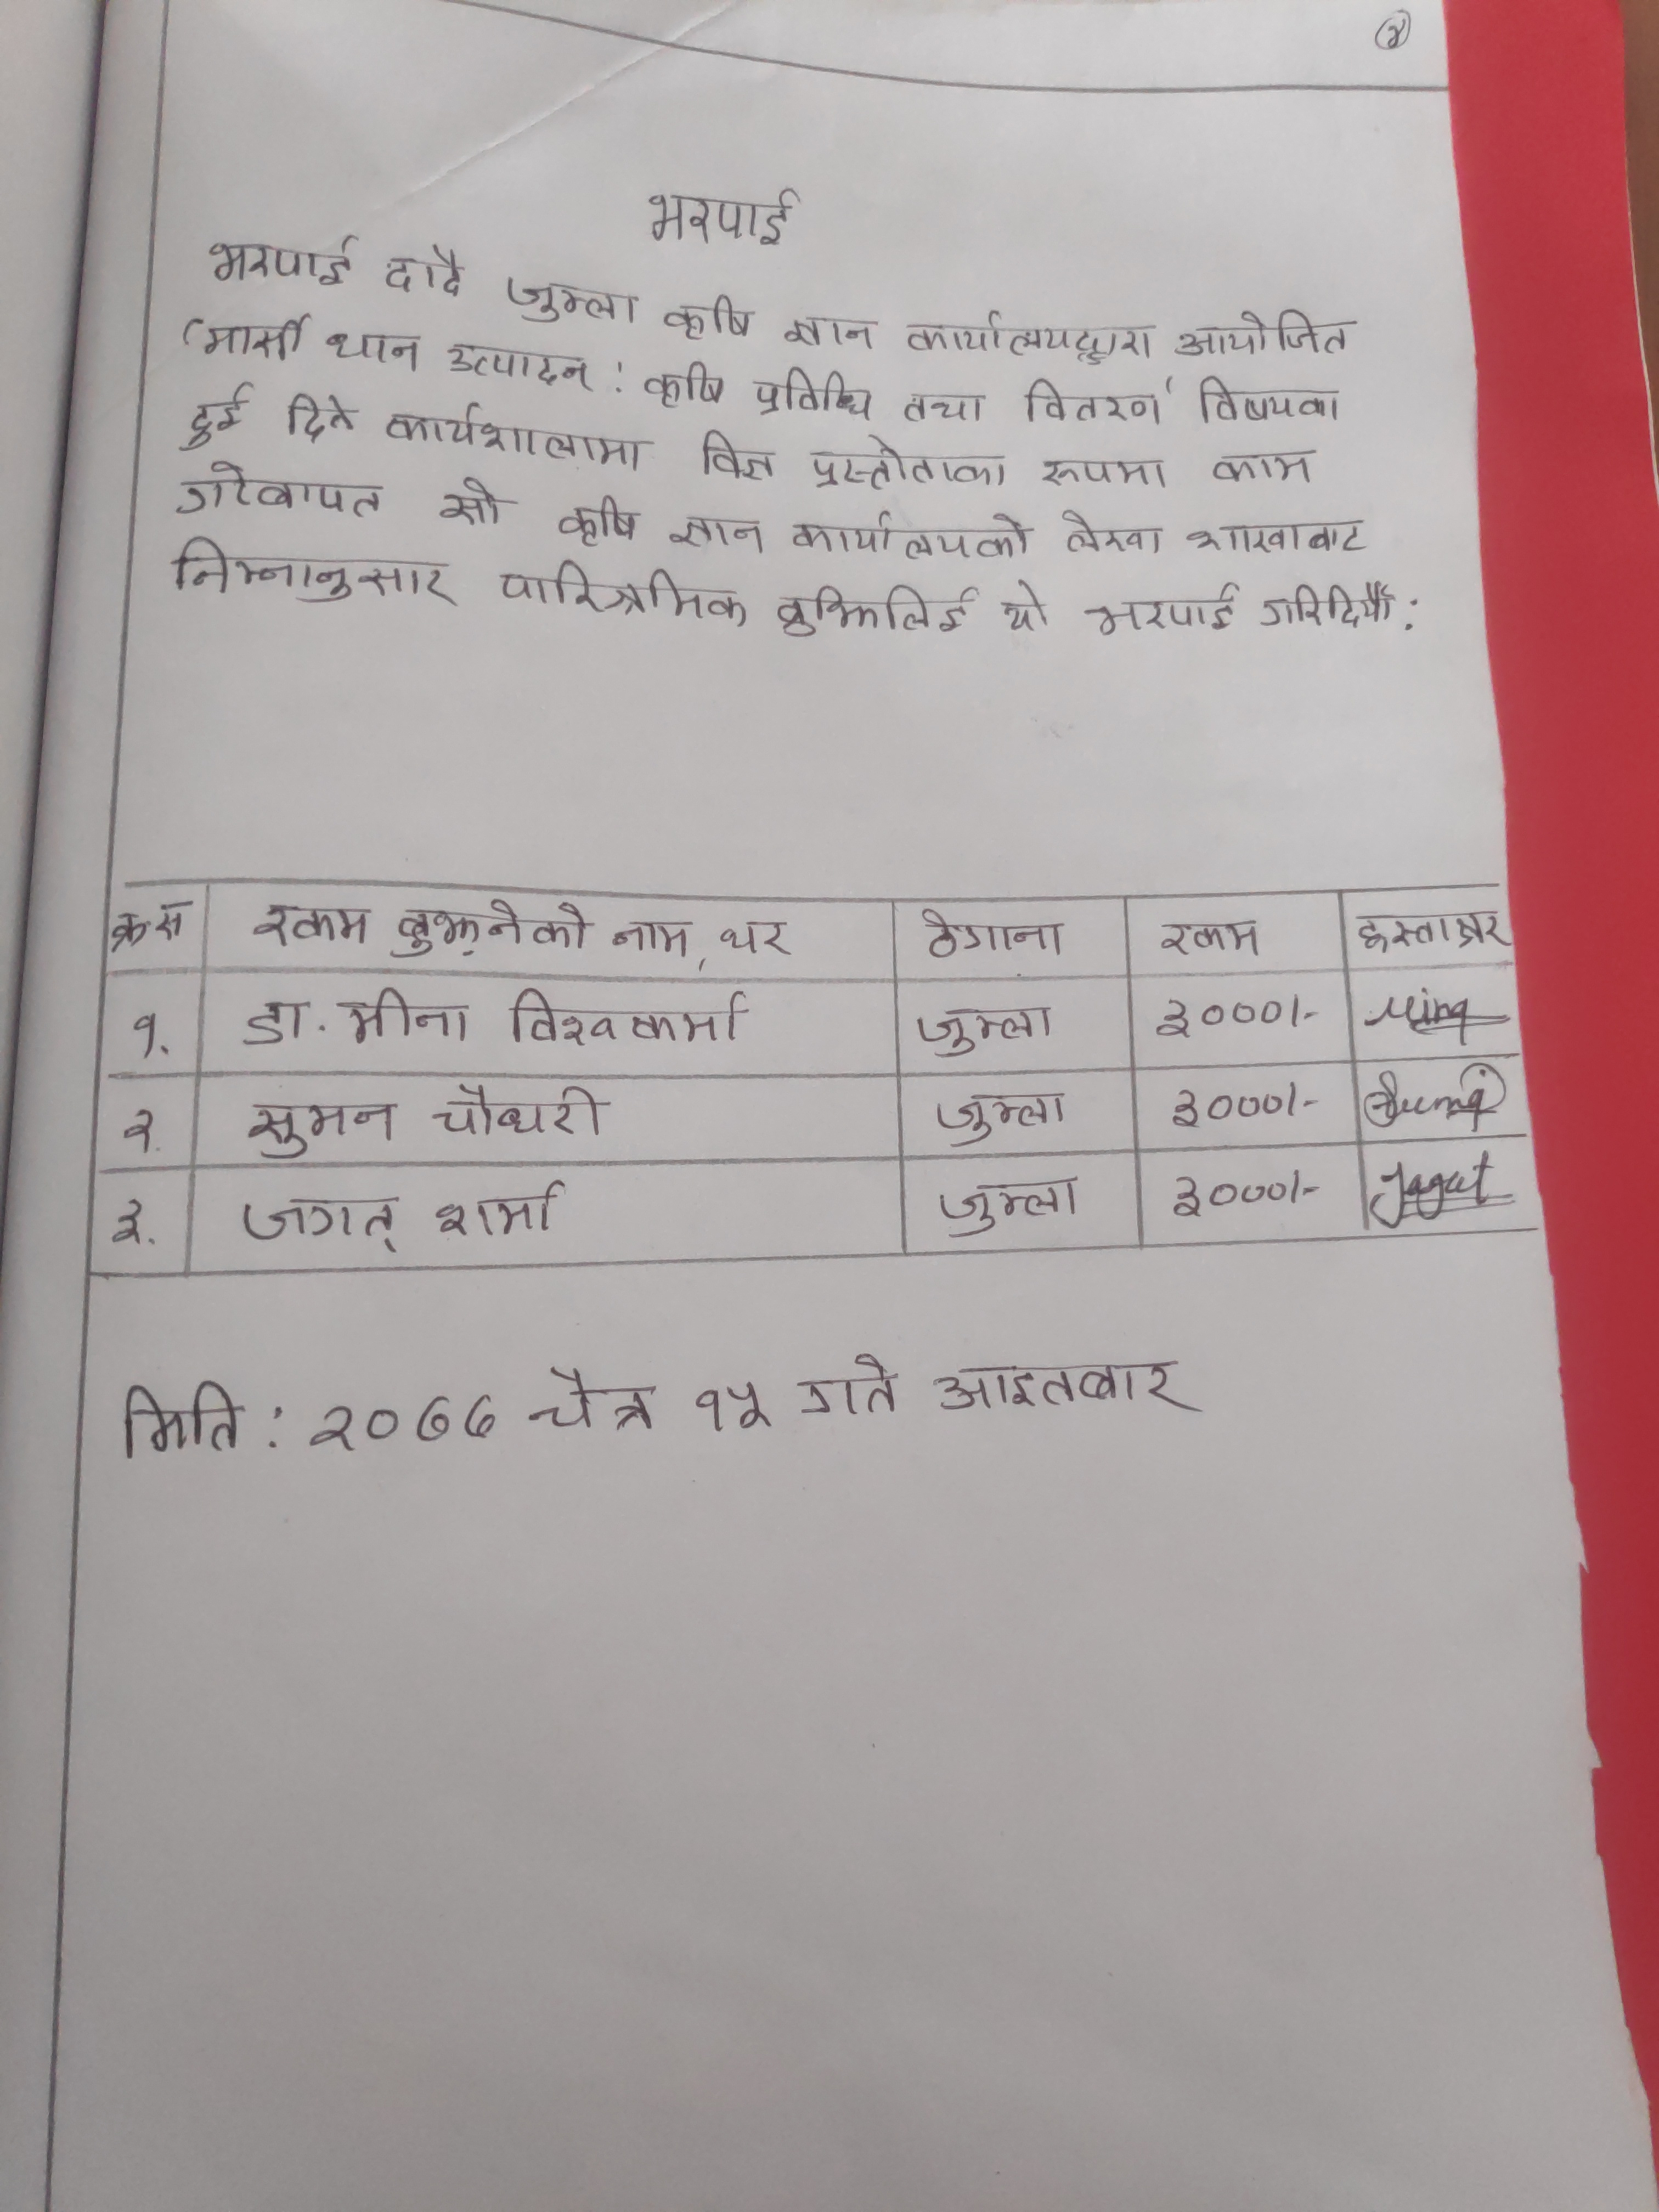text: (171, 529, 460, 610), (382, 402, 655, 474), (490, 559, 755, 625), (922, 1350, 1188, 1411), (897, 308, 1155, 369), (509, 984, 755, 1043), (307, 1385, 497, 1456), (788, 512, 1037, 564), (173, 458, 387, 517), (389, 897, 591, 958), (641, 181, 807, 254), (235, 1190, 408, 1259), (803, 439, 1016, 493), (770, 585, 981, 639), (523, 1366, 669, 1442), (112, 1381, 251, 1460), (425, 1078, 612, 1136), (202, 226, 361, 293), (929, 1170, 1087, 1235), (242, 1101, 404, 1163), (340, 984, 479, 1054), (910, 906, 1068, 967), (1082, 577, 1239, 637), (927, 1085, 1079, 1146), (429, 1174, 572, 1238), (1019, 374, 1173, 434), (1176, 310, 1363, 357), (436, 341, 598, 394), (1190, 373, 1340, 428), (1347, 907, 1514, 956), (1183, 517, 1370, 561), (1260, 573, 1396, 632), (796, 1353, 901, 1430), (908, 1005, 1065, 1054), (505, 272, 638, 329), (755, 364, 875, 427), (1061, 503, 1173, 566), (1155, 1076, 1286, 1129), (181, 312, 321, 359), (246, 902, 371, 953), (322, 320, 429, 380), (1164, 1176, 1288, 1226), (1202, 441, 1321, 493), (685, 1378, 781, 1440), (1147, 993, 1295, 1033), (1037, 455, 1176, 493), (640, 361, 735, 415), (558, 491, 640, 554), (695, 423, 781, 482), (234, 991, 317, 1050), (179, 383, 258, 446), (432, 475, 509, 536), (610, 914, 702, 965), (1154, 918, 1269, 958), (662, 294, 760, 341), (890, 387, 1004, 427), (666, 510, 769, 554), (383, 246, 469, 298), (282, 385, 356, 446), (98, 1184, 157, 1256), (786, 312, 884, 354), (106, 906, 188, 953), (993, 578, 1060, 636), (716, 914, 798, 958), (120, 1005, 179, 1061), (115, 1108, 169, 1162)
